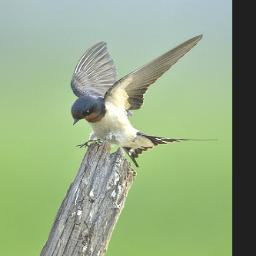Swallow: (69, 31, 219, 167)
